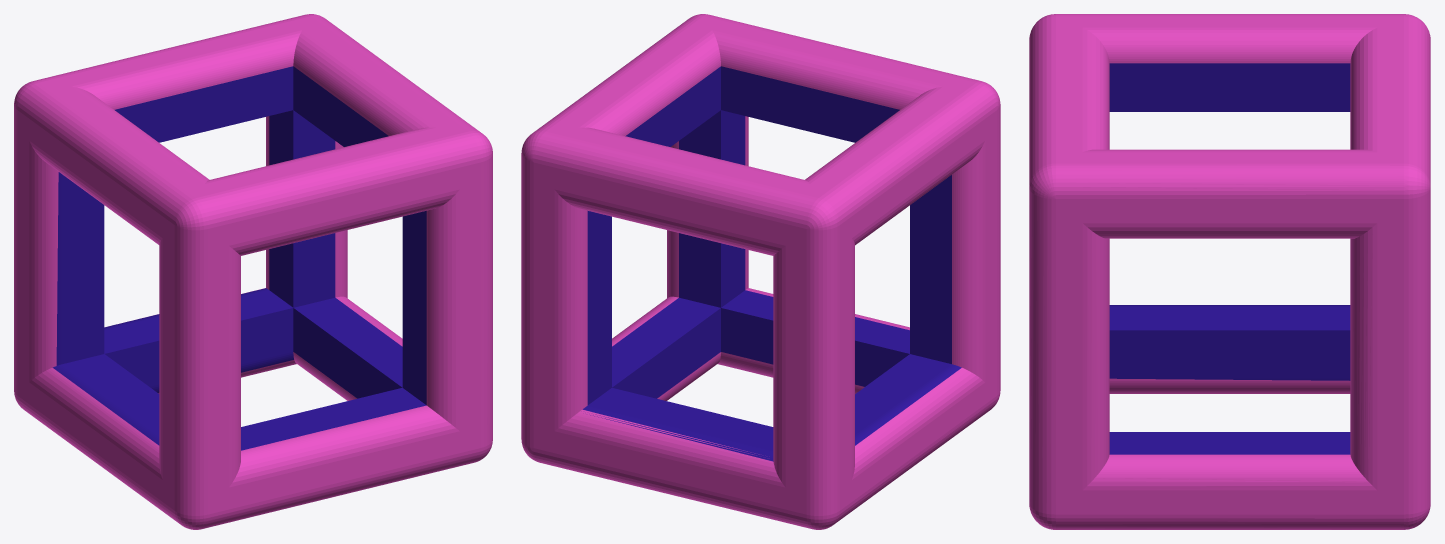
File: kocka_v2.dae
3 views of the same model, side by side, from view 1: azimuth 30°, elevation 25°; view 2: azimuth 150°, elevation 25°; view 3: azimuth 270°, elevation 25° (orthographic). The views are drawn at different scales.
Visible parts, largest first — view 1: kocka; view 2: kocka; view 3: kocka.
Part boxes in pixels (x1,y1,x2,y2): kocka: (14, 14, 492, 529); kocka: (521, 14, 1000, 529); kocka: (1029, 14, 1430, 529).
Bounding box in the file's own units: 0.03 × 0.03 × 0.03.
